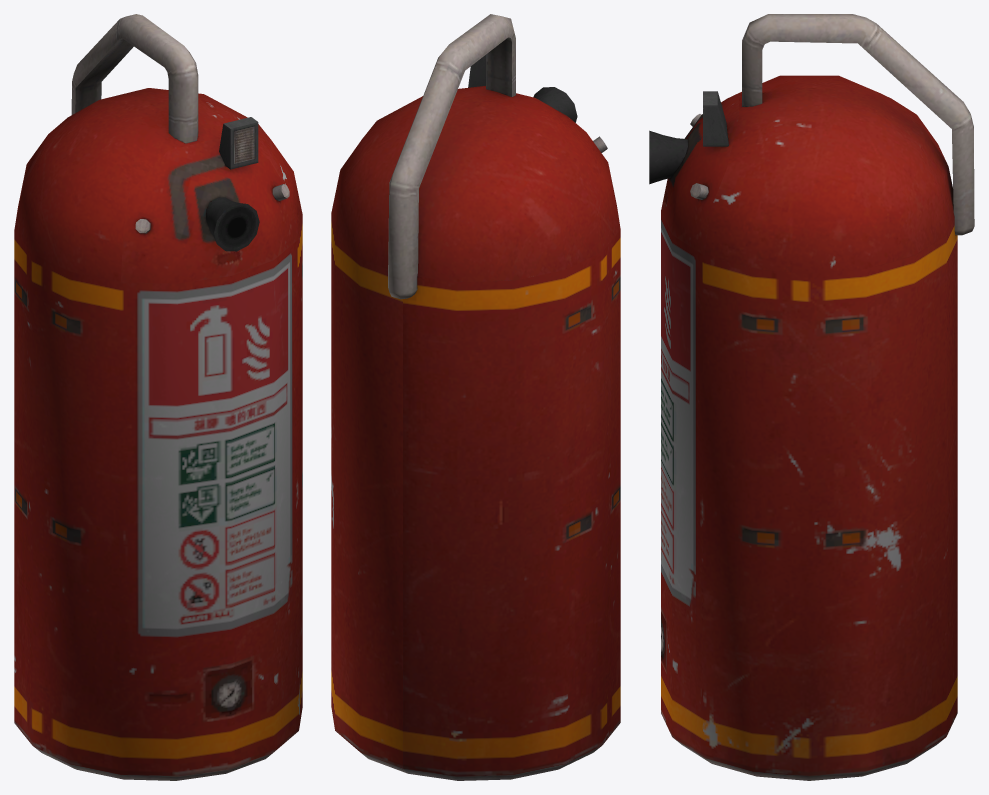
Rendered from fire_extinguisher_single.dae.
The picture shows the model from 3 angles, left to right: view 1: azimuth 30°, elevation 25°; view 2: azimuth 150°, elevation 25°; view 3: azimuth 270°, elevation 25°; orthographic projection. The views are drawn at different scales.
Visible parts, largest first — view 1: fire_extinguisher; view 2: fire_extinguisher; view 3: fire_extinguisher.
Boxes of the visible parts, x1,y1,x2,y2 form: fire_extinguisher: (14,14,302,780); fire_extinguisher: (331,14,620,780); fire_extinguisher: (649,14,974,780).
Size of the model in its own units: 0.3055 by 0.8019 by 0.3346.
